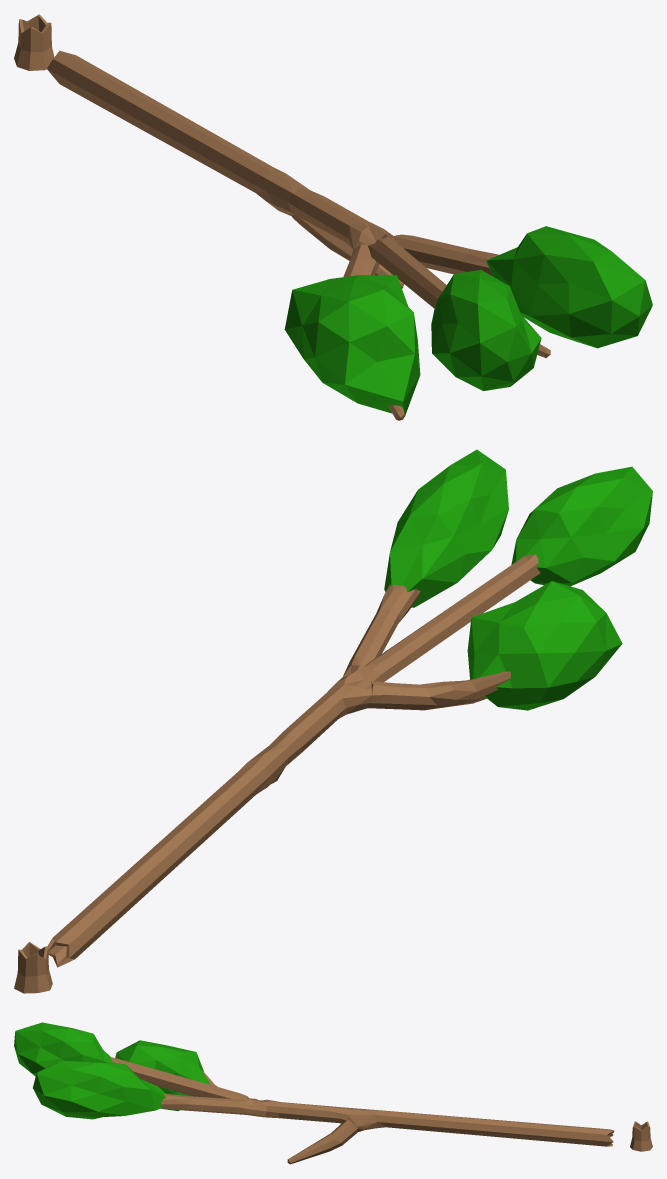
The model's file is Tree_10 Broken.fbx.
3 renders of one model, top to bottom at view 1: azimuth 30°, elevation 25°; view 2: azimuth 150°, elevation 25°; view 3: azimuth 270°, elevation 25°, orthographic. The views are drawn at different scales.
Parts seen in each view (by area): view 1: Tree10Broken_mesh; view 2: Tree10Broken_mesh; view 3: Tree10Broken_mesh.
Boxes of the visible parts, x1,y1,x2,y2 form: Tree10Broken_mesh: [14, 14, 652, 420]; Tree10Broken_mesh: [14, 449, 652, 993]; Tree10Broken_mesh: [14, 1022, 652, 1164].
Bounding box in the file's own units: 131 × 89.32 × 498.
